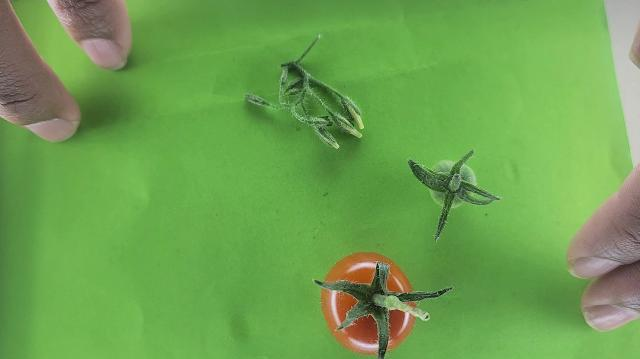Flower Bud: (316, 128, 341, 149), (339, 121, 363, 138), (245, 93, 272, 108), (330, 141, 339, 149)
Fruit Maturation: (427, 161, 476, 209)
Fully Grown: (316, 250, 417, 356)
